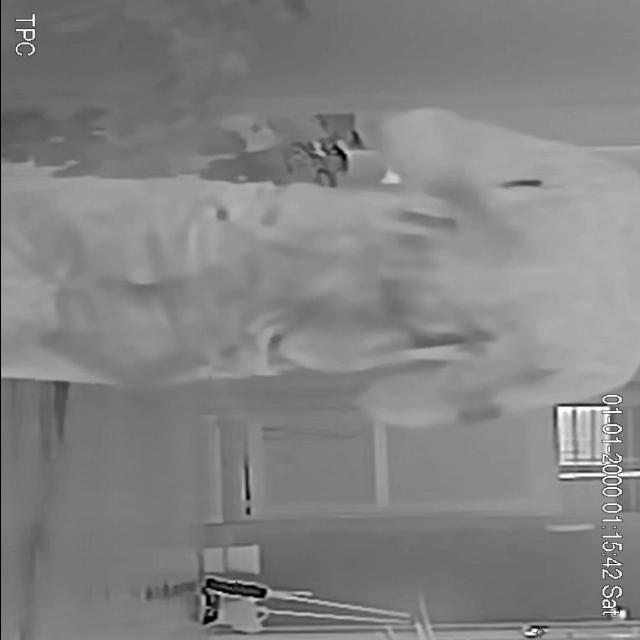Weapon: (34, 327, 210, 400)
